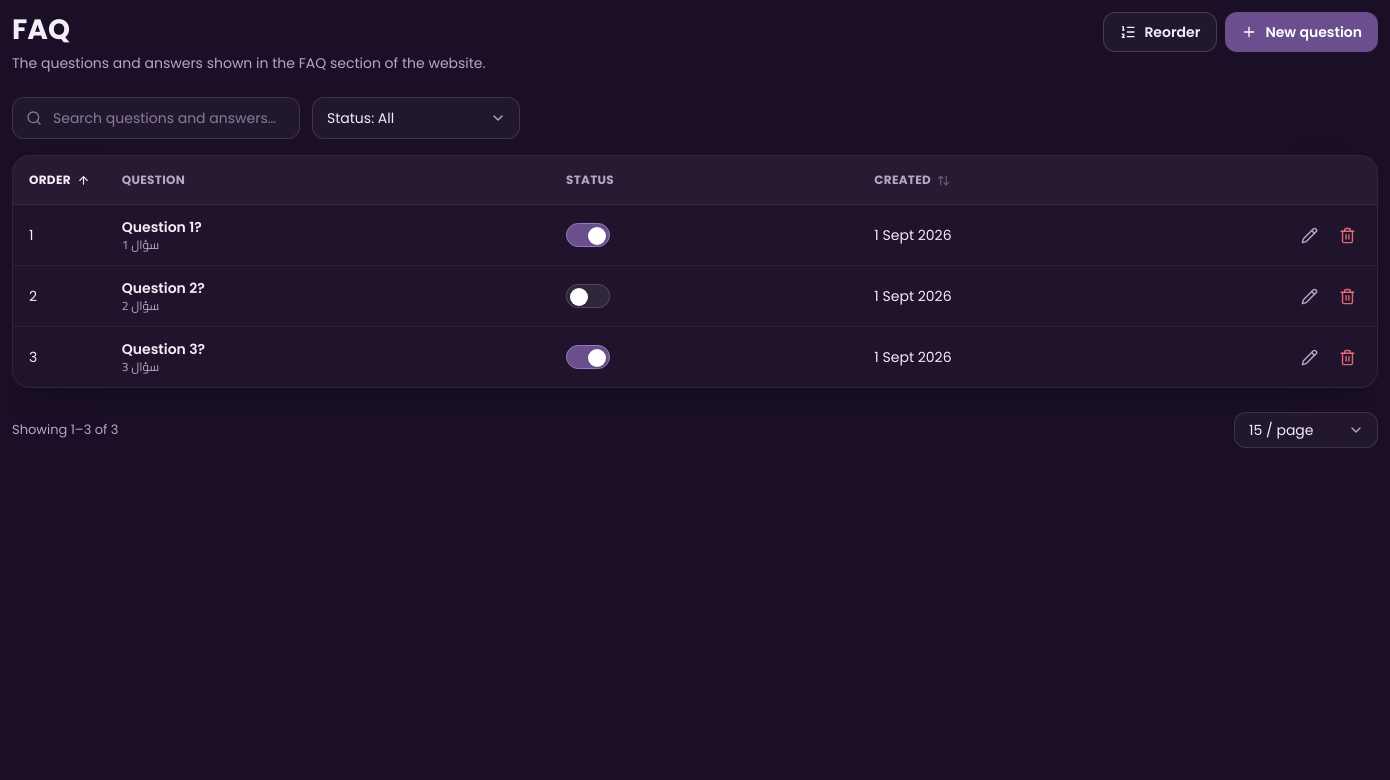
FaqList › reorder mode › loads every row (per_page 200), reorders optimistically and saves the new order
Check: the text "Question 1?" is shown, box [122,217,202,237]
Step 1. Click the button "Reorder" → (1160, 32), box [1103,12,1217,52]
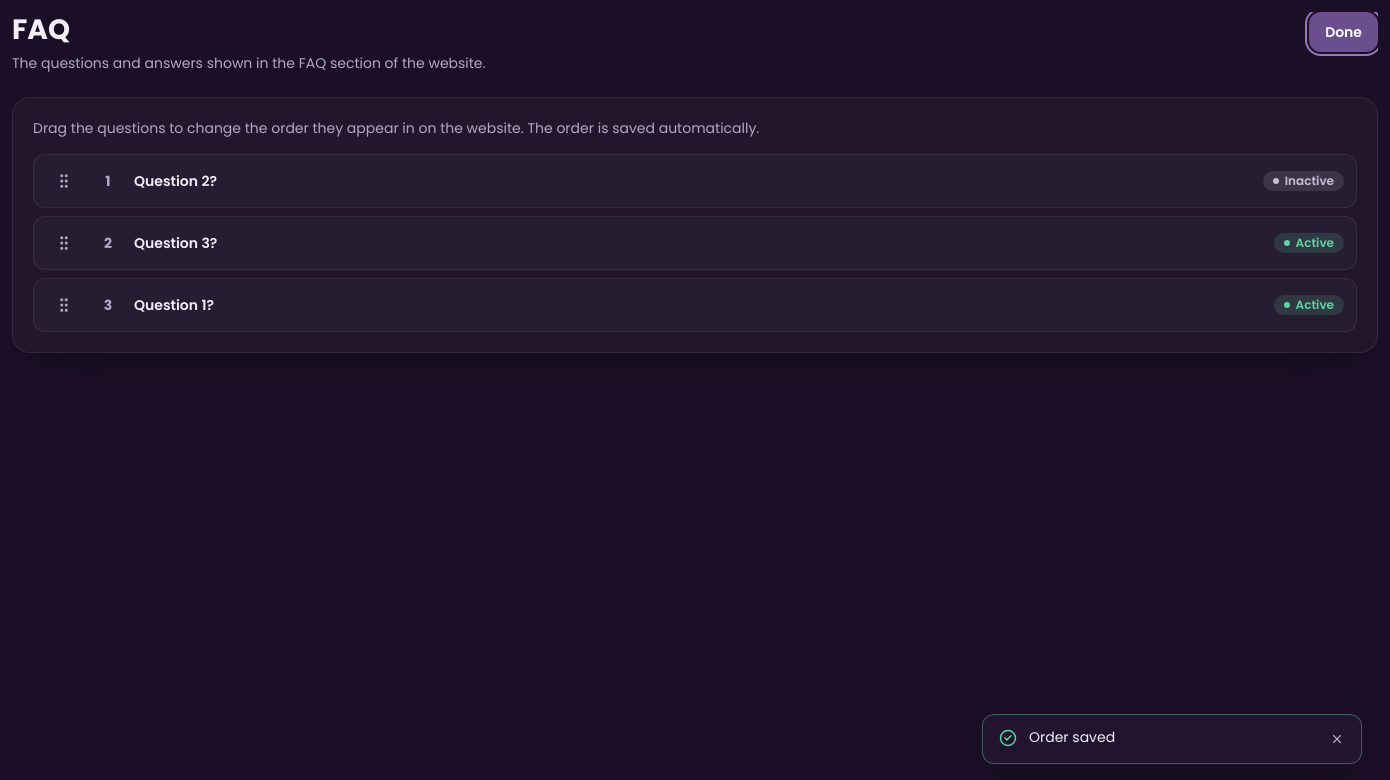
Check: the number of buttons named "Drag to reorder" is 3, box [46,163,82,199]; [46,225,82,261]; [46,287,82,323]
Check: the text "Order saved" is shown, box [1029,727,1115,747]
